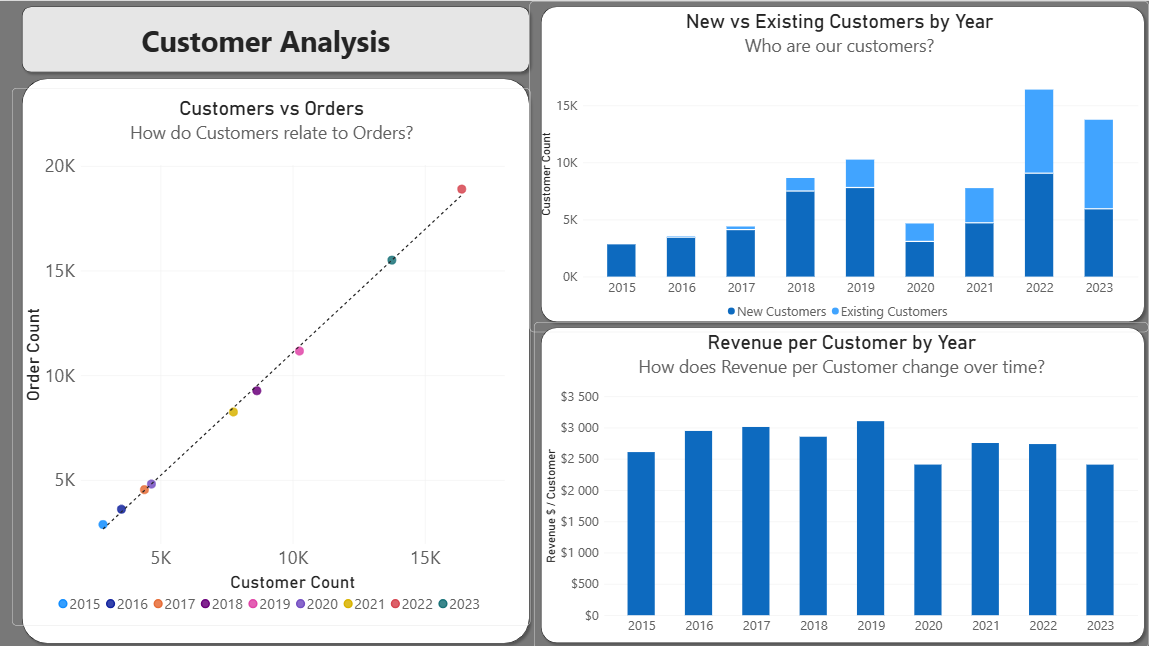

What the dashboard file says about the page in this screenshot:
{"tool":"powerbi","page":{"name":"Customer Analysis","canvas":[1920,1080],"ordinal":1},"visuals":[{"type":"group","id":"g1","title":"Background","box":[32,0,1888,1080],"z":0},{"type":"shape","box":[32,120,864,960],"z":0,"group":"g1"},{"type":"shape","box":[896,0,1024,544],"z":1000,"group":"g1"},{"type":"scatterChart","title":"Customers vs Orders","fields":{"Y":["_Measures.Order Count"],"X":["_Measures.Customer Count"],"Series":["date.year"]},"box":[24,144,864,896],"z":1000},{"type":"columnChart","title":"Revenue per Customer by Year","fields":{"Category":["date.year"],"Y":["_Measures.Revenue per Customer"]},"box":[896,536,1024,544],"z":2000},{"type":"shape","box":[896,536,1024,544],"z":2000,"group":"g1"},{"type":"shape","box":[32,0,864,128],"z":3000,"group":"g1"},{"type":"columnChart","title":"New vs Existing Customers by Year","fields":{"Category":["date.year"],"Y":["_Measures.New Customers","_Measures.Existing Customers"]},"box":[888,0,1032,552],"z":3000},{"type":"textbox","box":[160,32,576,96],"z":4000}]}

Visuals, with their boxes in screenshot pixels (x1, y1, x2, y2), scaled from the page's 1920x1080 canvas onto the 1149x646 screenshot:
"Background" group: bbox=[19, 0, 1148, 645]
shape: bbox=[19, 72, 536, 645]
shape: bbox=[536, 0, 1148, 325]
"Customers vs Orders" scatterChart: bbox=[14, 86, 531, 622]
"Revenue per Customer by Year" columnChart: bbox=[536, 321, 1148, 645]
shape: bbox=[536, 321, 1148, 645]
shape: bbox=[19, 0, 536, 77]
"New vs Existing Customers by Year" columnChart: bbox=[531, 0, 1148, 330]
textbox: bbox=[96, 19, 440, 77]
